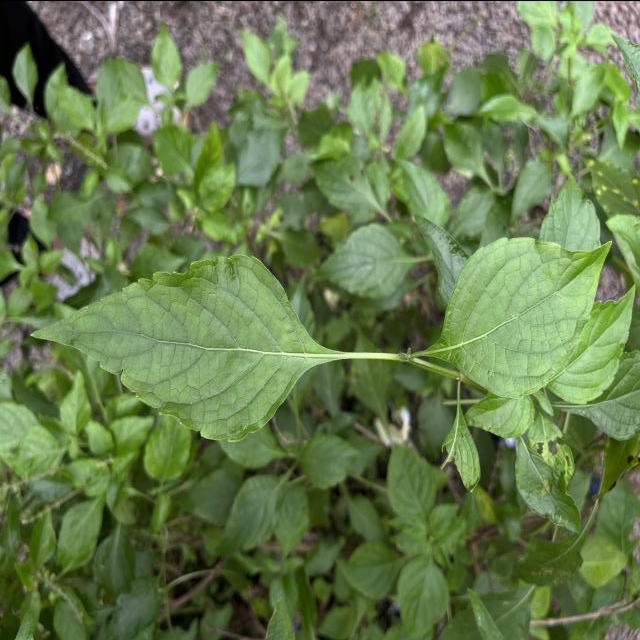Ocimum gratissimum: (23, 250, 363, 443), (425, 230, 619, 401), (536, 278, 640, 408)
